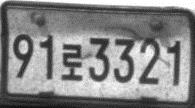1: (38, 33, 54, 80), (166, 38, 181, 87)
2: (138, 38, 161, 85)
3: (88, 36, 110, 82), (113, 37, 134, 83)
9: (11, 33, 35, 79)
로: (60, 42, 84, 82)
